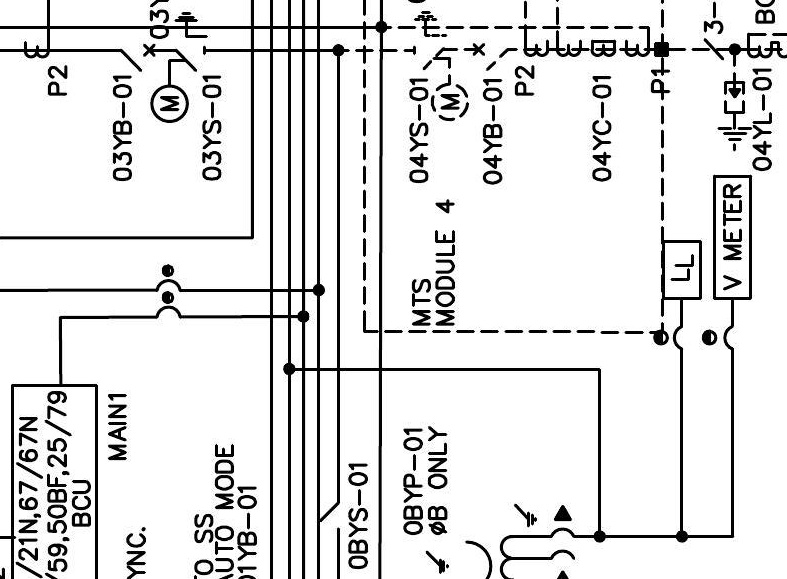115_3ways_ds_w_motor: (149, 11, 208, 124)
115_breaker: (120, 43, 156, 73)
115_ds: (320, 502, 341, 532)
LL: (662, 239, 703, 301)
v_m_digital: (712, 174, 753, 301)
